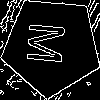M: (26, 21, 75, 66)
